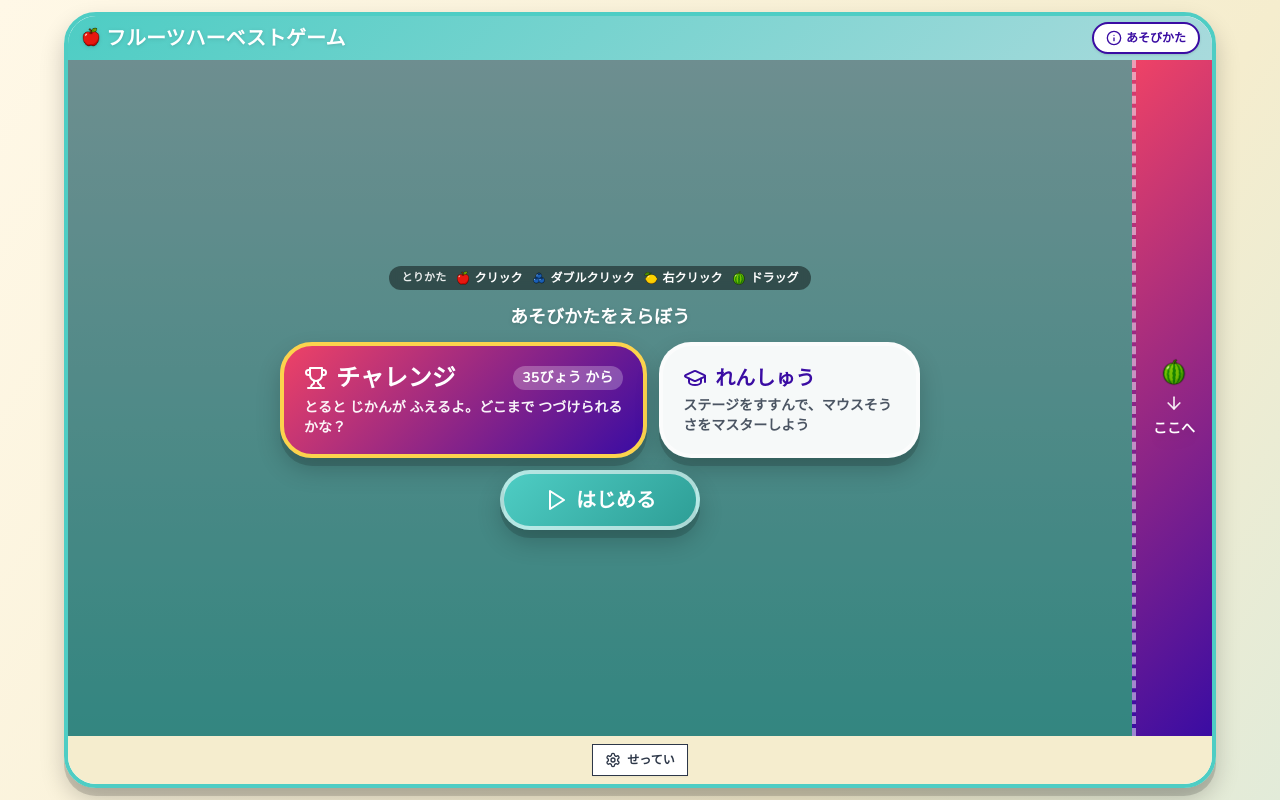
it: Internationalization (i18n) › Language Toggle › should have language toggle in the settings
This screenshot has width=1280, height=800.
What coordinates should you click on to do the following:
click the button "せってい"
I would click on:
 (640, 760)
Its box is [592,744,688,776].
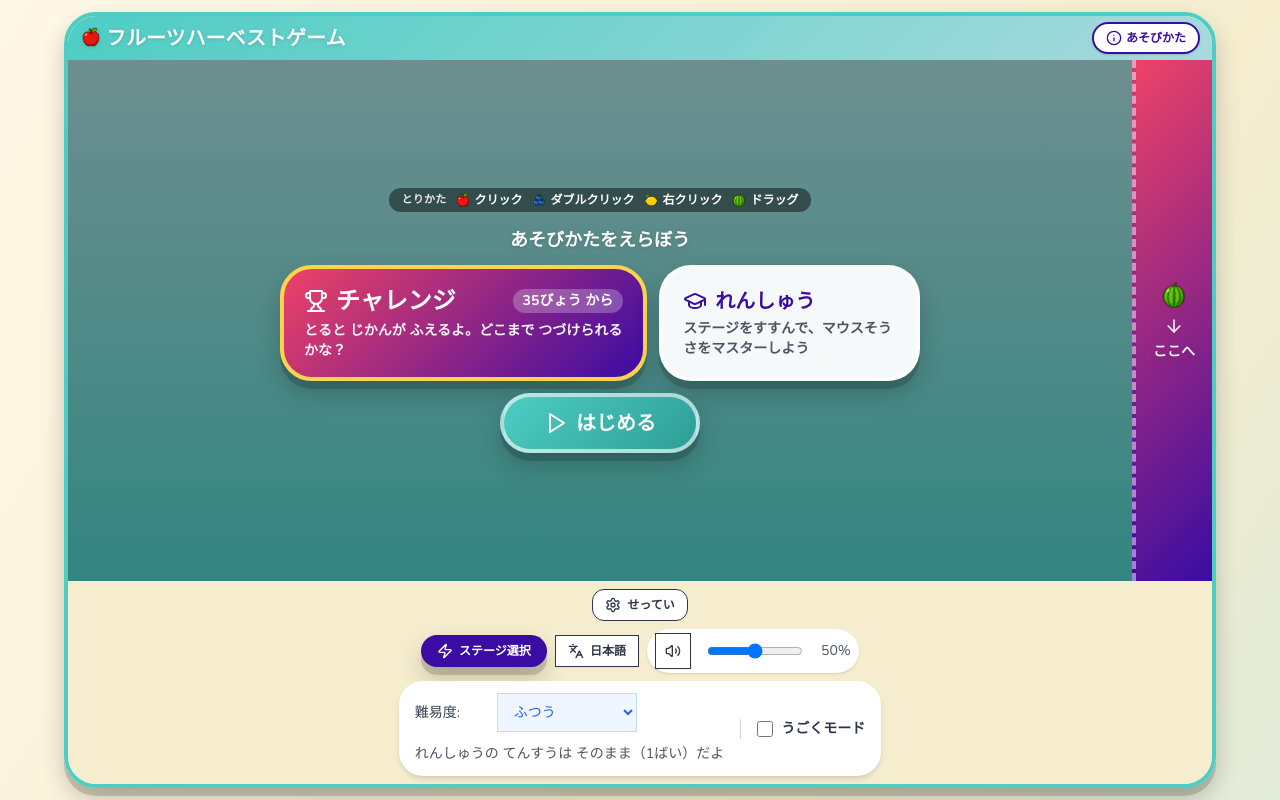
Expected: the button with aria-label "language" is shown, [555,635,639,667]
